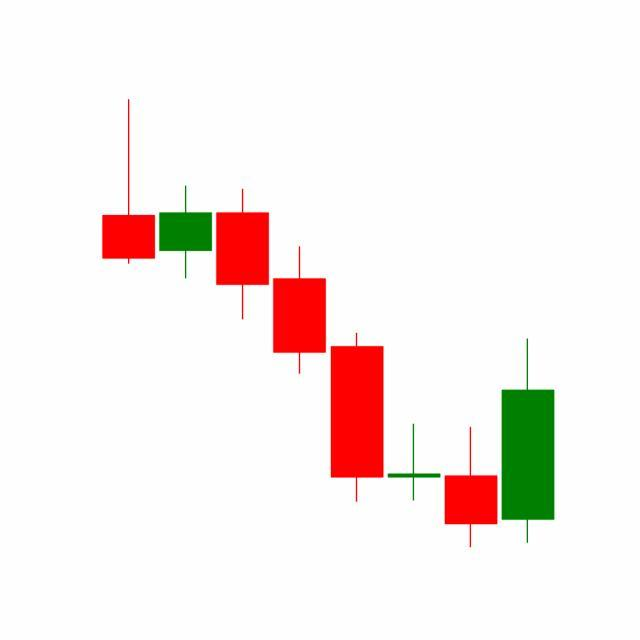Hikkake Pattern: (214, 184, 501, 548)
